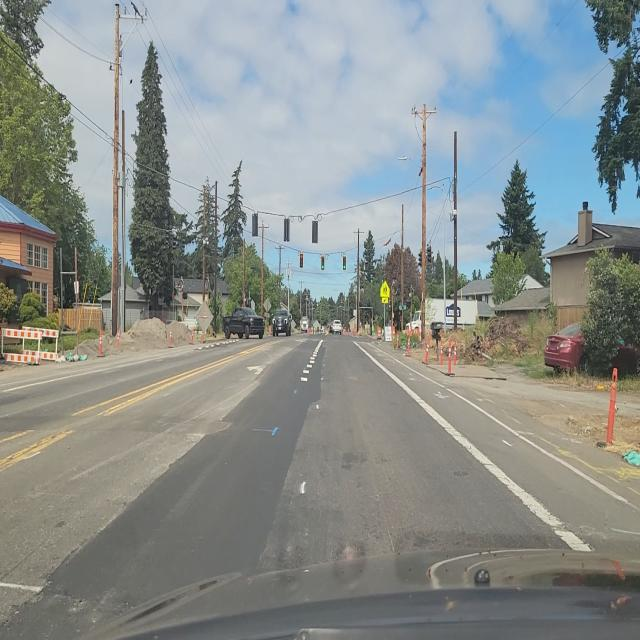car: (542, 322, 639, 380), (272, 309, 294, 338), (329, 319, 343, 335), (300, 319, 309, 333)
crosswalk-sign: (380, 280, 390, 302)
delineator: (424, 338, 430, 365), (447, 343, 452, 375), (453, 340, 458, 366), (439, 342, 444, 366), (116, 328, 122, 348), (406, 330, 410, 356), (395, 330, 400, 350), (99, 332, 103, 356), (190, 326, 195, 344), (426, 334, 431, 351), (169, 328, 173, 348), (418, 327, 422, 342), (201, 329, 205, 343), (448, 338, 451, 351), (308, 325, 310, 334)
